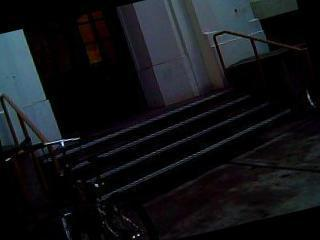Escaleras: (43, 65, 320, 225)
